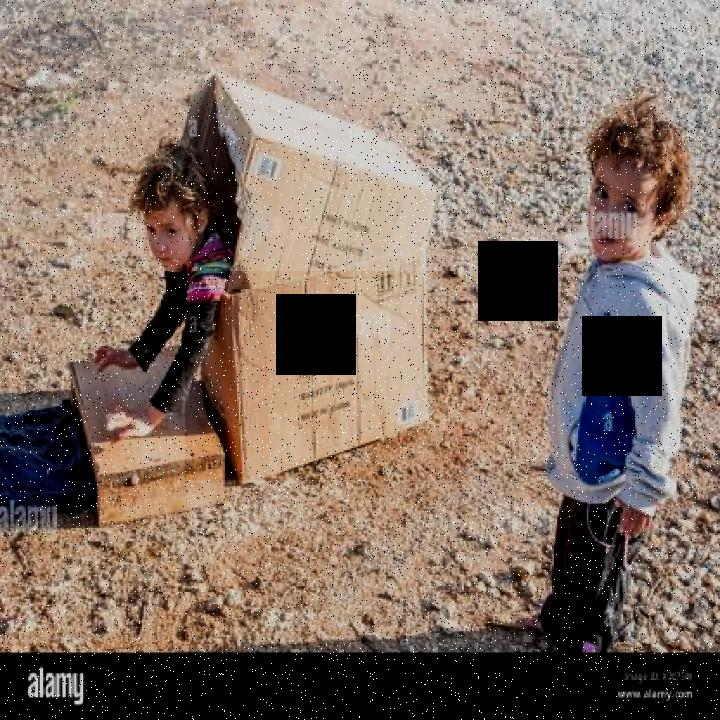box: (163, 65, 450, 328), (185, 271, 467, 480)
